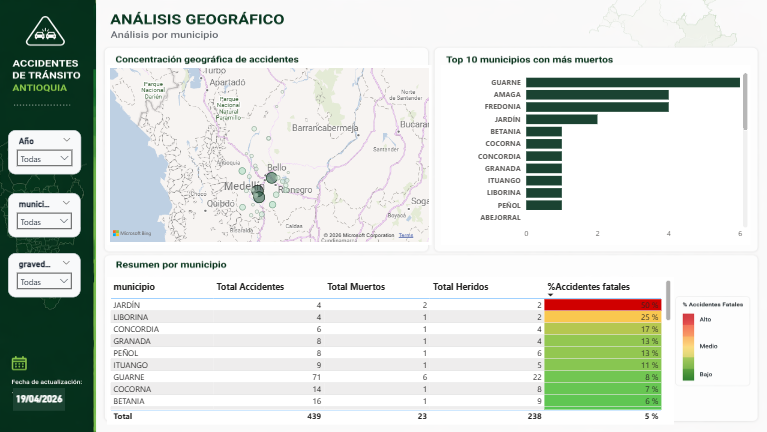

Layout of this report page (visuals, bound fields, positions):
{"tool":"powerbi","page":{"name":"Página 3","canvas":[1280,720],"ordinal":2},"visuals":[{"type":"slicer","fields":{"Values":["Consulta1.gravedad"]},"box":[14.4,422.2,121.1,74.4],"z":0,"group":"g2"},{"type":"shape","box":[23.5,646.5,86.7,38.2],"z":0},{"type":"group","id":"g1","title":"Grupo 1","box":[14.4,217,122.6,179.7],"z":1000,"group":"g2"},{"type":"card","fields":{"Values":["Consulta1.Hoy"]},"box":[16.9,639.2,99.9,50.7],"z":1000},{"type":"map","fields":{"Category":["Consulta1.Ubicación"],"Size":["Consulta1.Total Accidentes"]},"box":[179.3,108.7,540.7,299.8],"z":2000},{"type":"barChart","fields":{"Category":["Consulta1.municipio"],"Y":["Consulta1.Muertos Sin NR"]},"box":[736,109.1,516.3,299.6],"z":3000},{"type":"tableEx","fields":{"Values":["Consulta1.municipio","Consulta1.Total Accidentes","Consulta1.Total Muertos","Consulta1.Total Heridos","Consulta1.%Accidentes fatales"]},"box":[179.8,461,945,245.9],"z":4000},{"type":"group","id":"g2","title":"Grupo 2","box":[14.4,217,122.6,279.7],"z":4001},{"type":"slicer","fields":{"Values":["Consulta1.fecha_accidente.Variación.Jerarquía de fechas.Año"]},"box":[15,217,122,74],"z":8000,"group":"g1"},{"type":"slicer","fields":{"Values":["Consulta1.municipio"]},"box":[14.4,322.2,121.1,74.4],"z":9000,"group":"g1"}]}

Visuals, with their boxes in screenshot pixels (x1, y1, x2, y2), scaled from the page's 1280x720 canvas onto the 767x432 screenshot:
slicer - Consulta1.gravedad: Rect(9, 253, 81, 298)
shape: Rect(14, 388, 66, 411)
"Grupo 1" group: Rect(9, 130, 82, 238)
card - Consulta1.Hoy: Rect(10, 384, 70, 414)
map - Consulta1.Ubicación x Consulta1.Total Accidentes: Rect(107, 65, 431, 245)
barChart - Consulta1.municipio x Consulta1.Muertos Sin NR: Rect(441, 65, 750, 245)
tableEx - Consulta1.municipio x Consulta1.Total Accidentes: Rect(108, 277, 674, 424)
"Grupo 2" group: Rect(9, 130, 82, 298)
slicer - Consulta1.fecha_accidente.Variación.Jerarquía de fechas.Año: Rect(9, 130, 82, 175)
slicer - Consulta1.municipio: Rect(9, 193, 81, 238)
